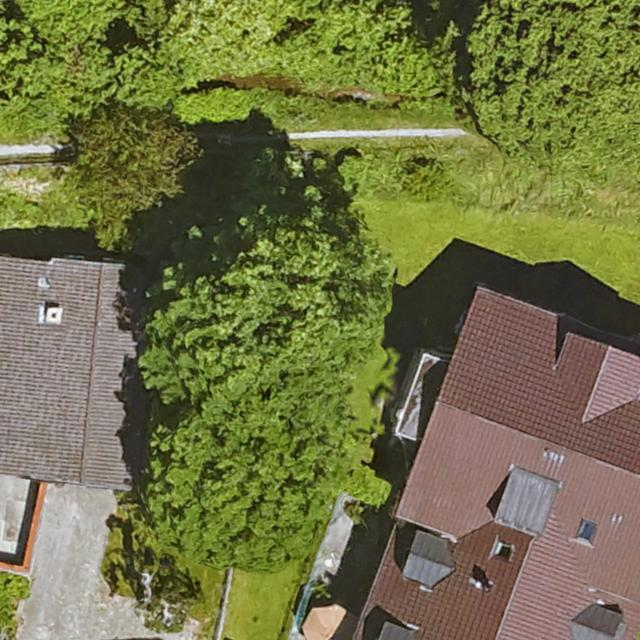tree: (154, 188, 392, 406), (152, 393, 353, 569), (466, 0, 640, 164), (63, 111, 196, 216)
